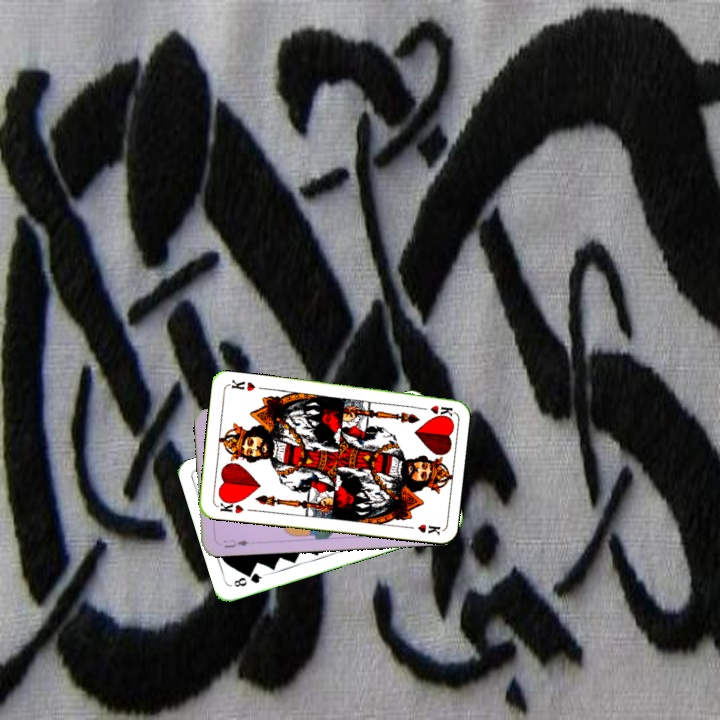EU: (219, 536, 252, 550)
G8: (230, 569, 264, 590)
HK: (413, 401, 454, 419), (213, 495, 246, 516)
